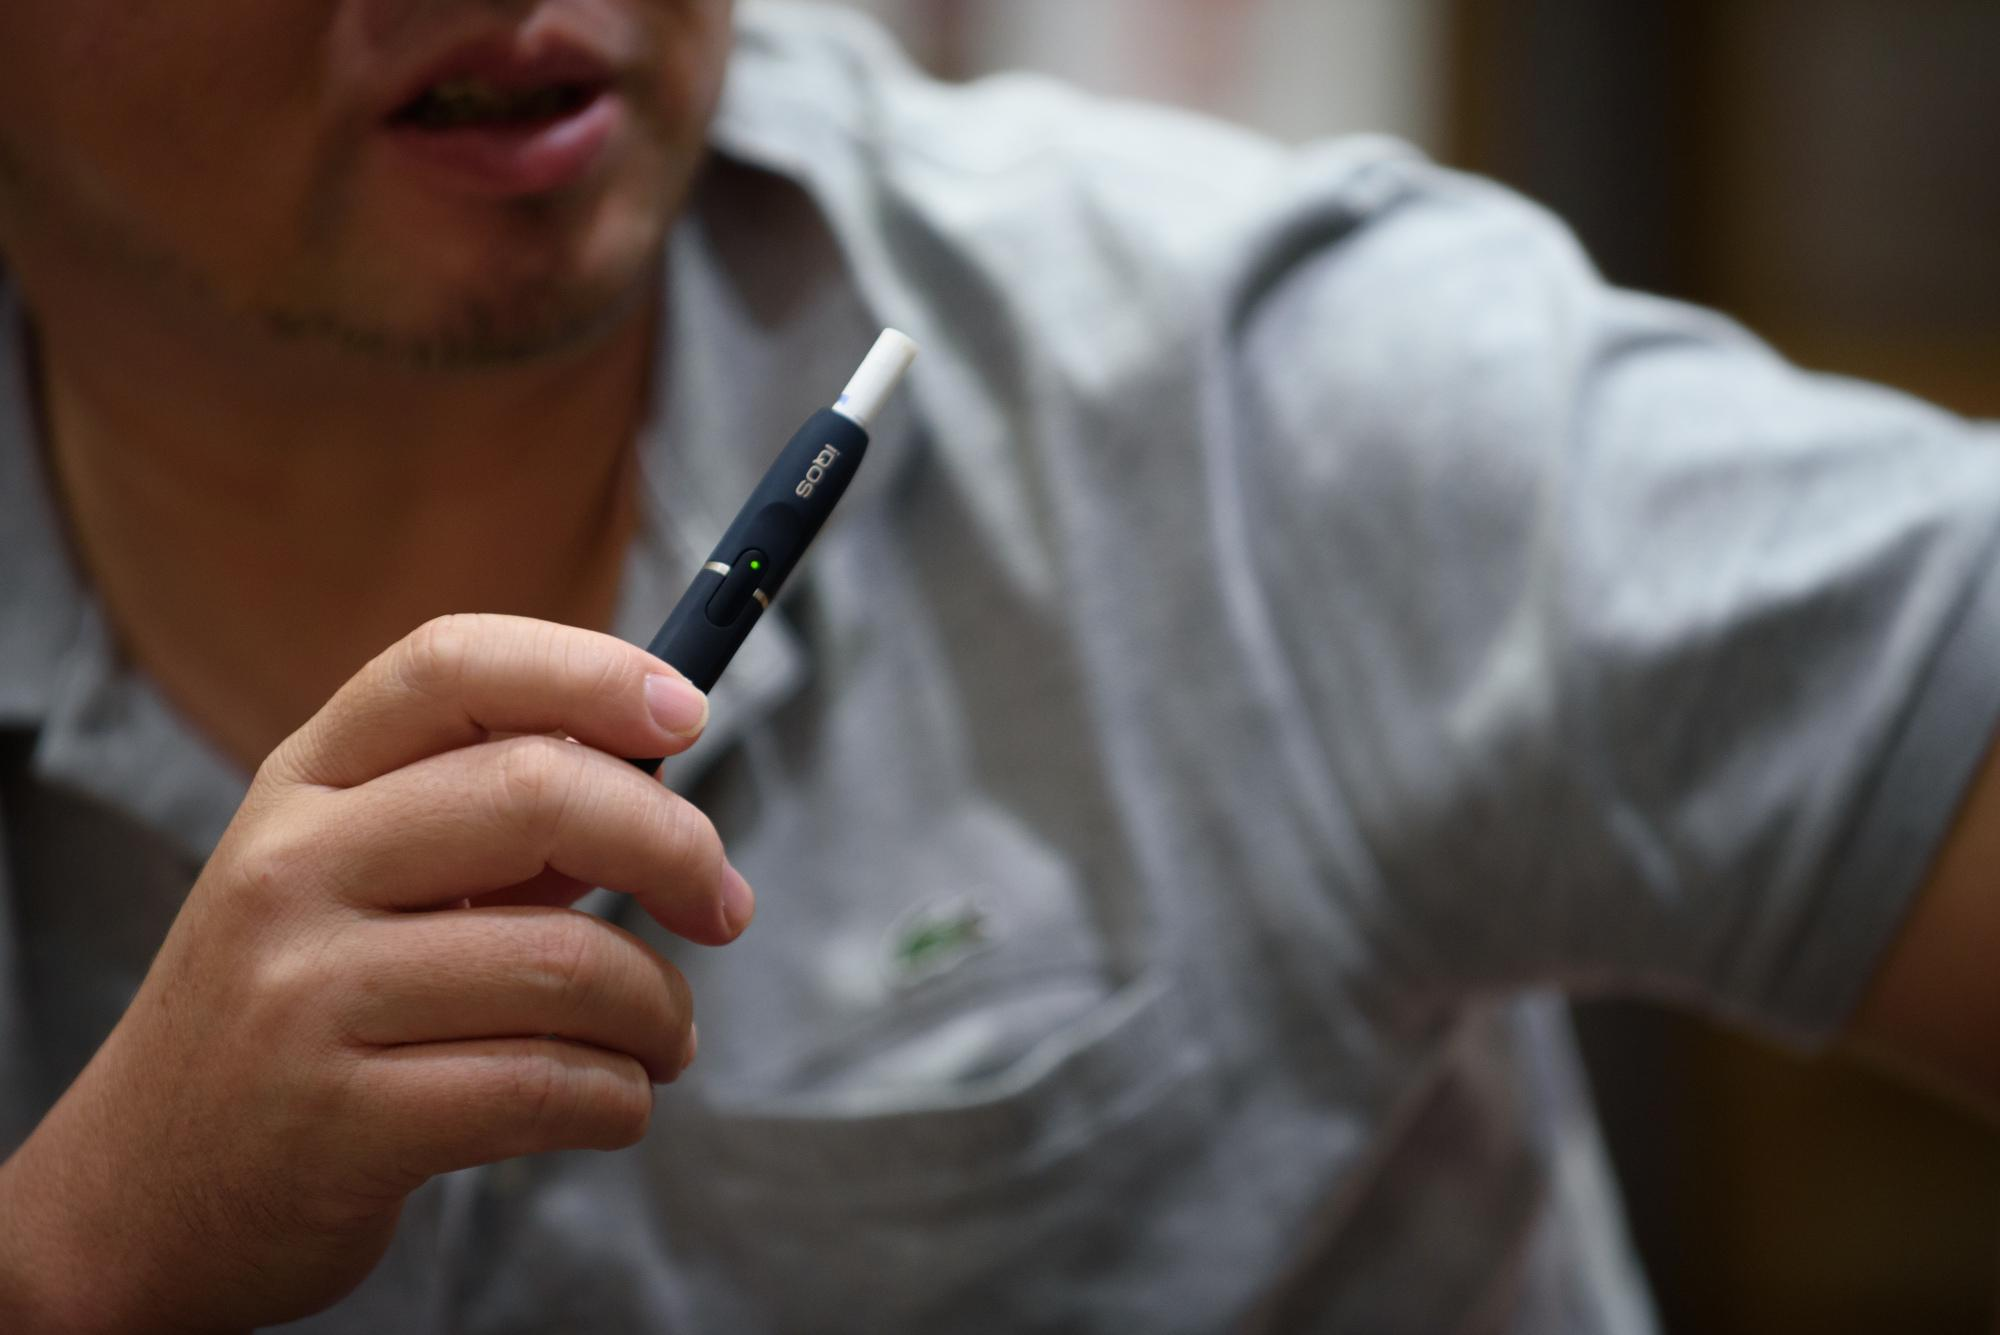iqos: (643, 329, 914, 691)
